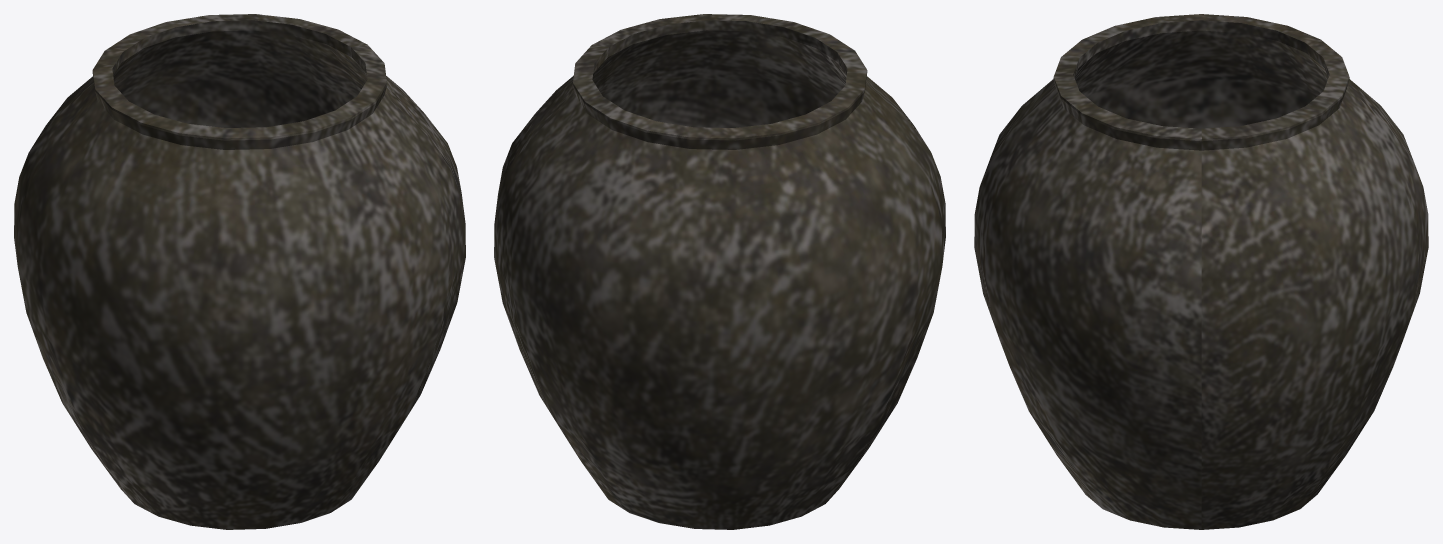
3 renders of one model, left to right at view 1: azimuth 30°, elevation 25°; view 2: azimuth 150°, elevation 25°; view 3: azimuth 270°, elevation 25°, orthographic.
Visible parts, largest first — view 1: lu; view 2: lu; view 3: lu.
Part boxes in pixels (bbox=[...]): lu: bbox=[14, 14, 465, 529]; lu: bbox=[494, 14, 945, 529]; lu: bbox=[974, 14, 1428, 529].
Bounding box in the file's own units: 154 × 152 × 154.
Materials: 1 (1 with a texture image).
